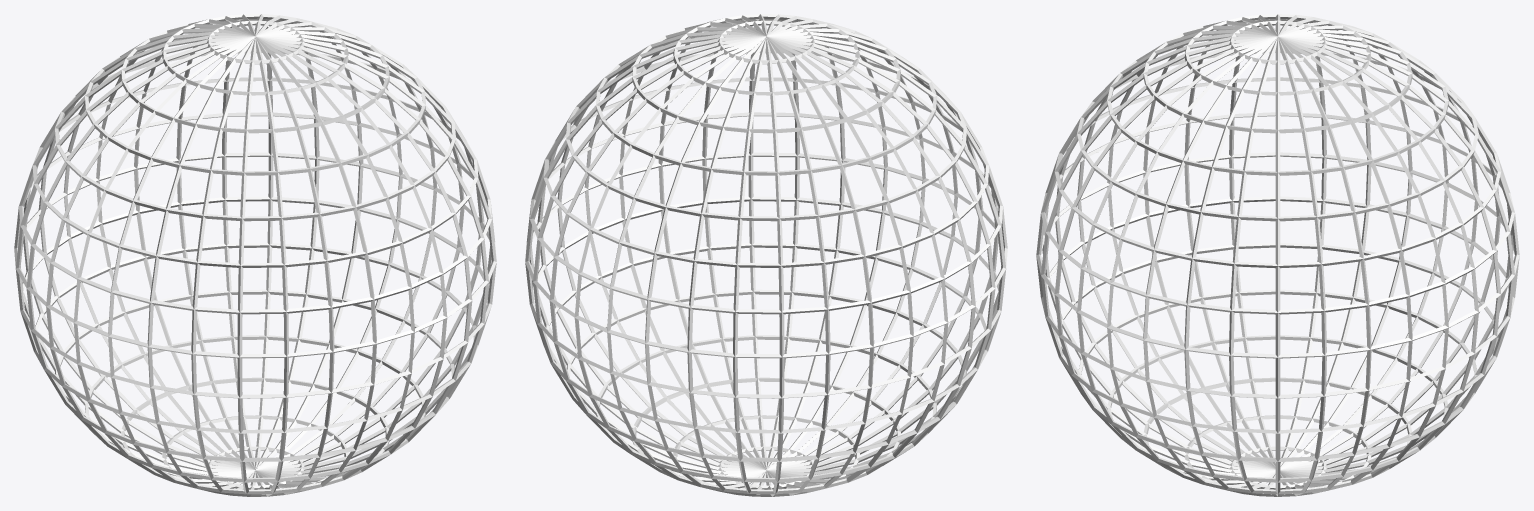
Rendered from SphereCollider.obj.
The picture shows the model from 3 angles, left to right: view 1: azimuth 30°, elevation 25°; view 2: azimuth 150°, elevation 25°; view 3: azimuth 270°, elevation 25°; orthographic projection.
Parts seen in each view (by area): view 1: 球; view 2: 球; view 3: 球.
Part boxes in pixels (box(x1,y1,x2,y2)): 球: box(14, 14, 496, 496); 球: box(525, 14, 1007, 496); 球: box(1036, 14, 1519, 496).
Size of the model in its own units: 2.02 by 2.02 by 2.02.
Materials: 1 (1 with a texture image).
